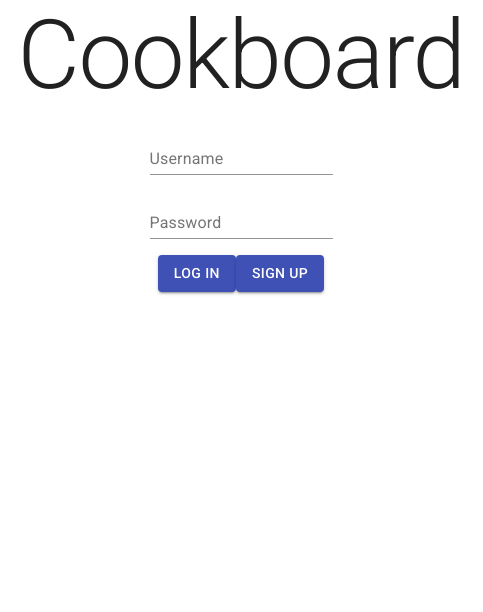
tests for LoginWindow. › With no user credentials stored › tests for signup › tests for password rules › typing \abcd displays Spaces and <>\ are not allowed
Click the button with test id "buttonSignup".
click(280, 273)  # box [236,255,324,292]
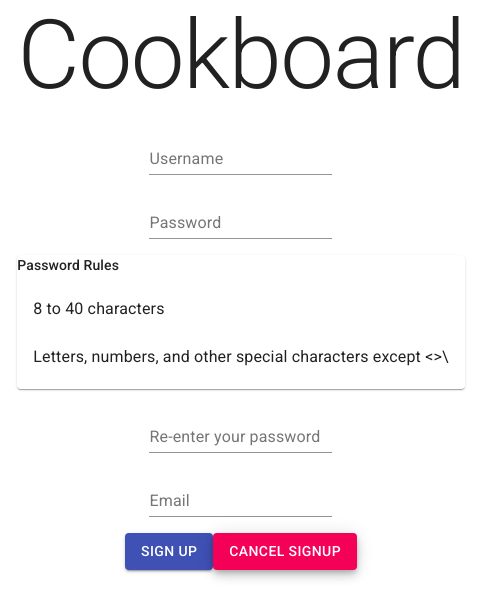
Type "\\abcd" into the password field with test id "inputPassword".
click(241, 223); type("\\abcd")  # box [150,207,332,239]
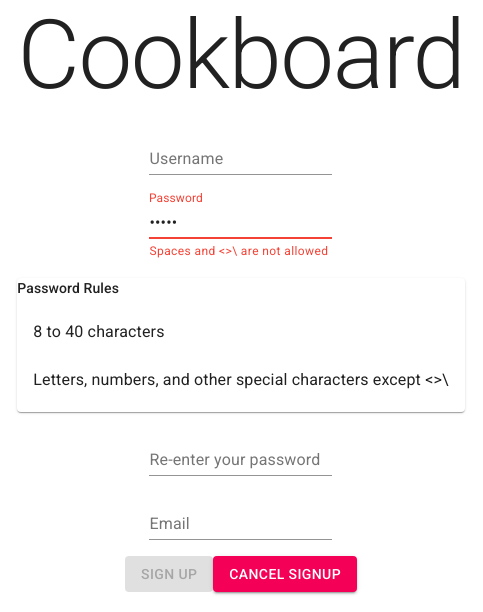
Now the text "Spaces and <>\\ are not allowed" is shown, box [150,242,332,262]
